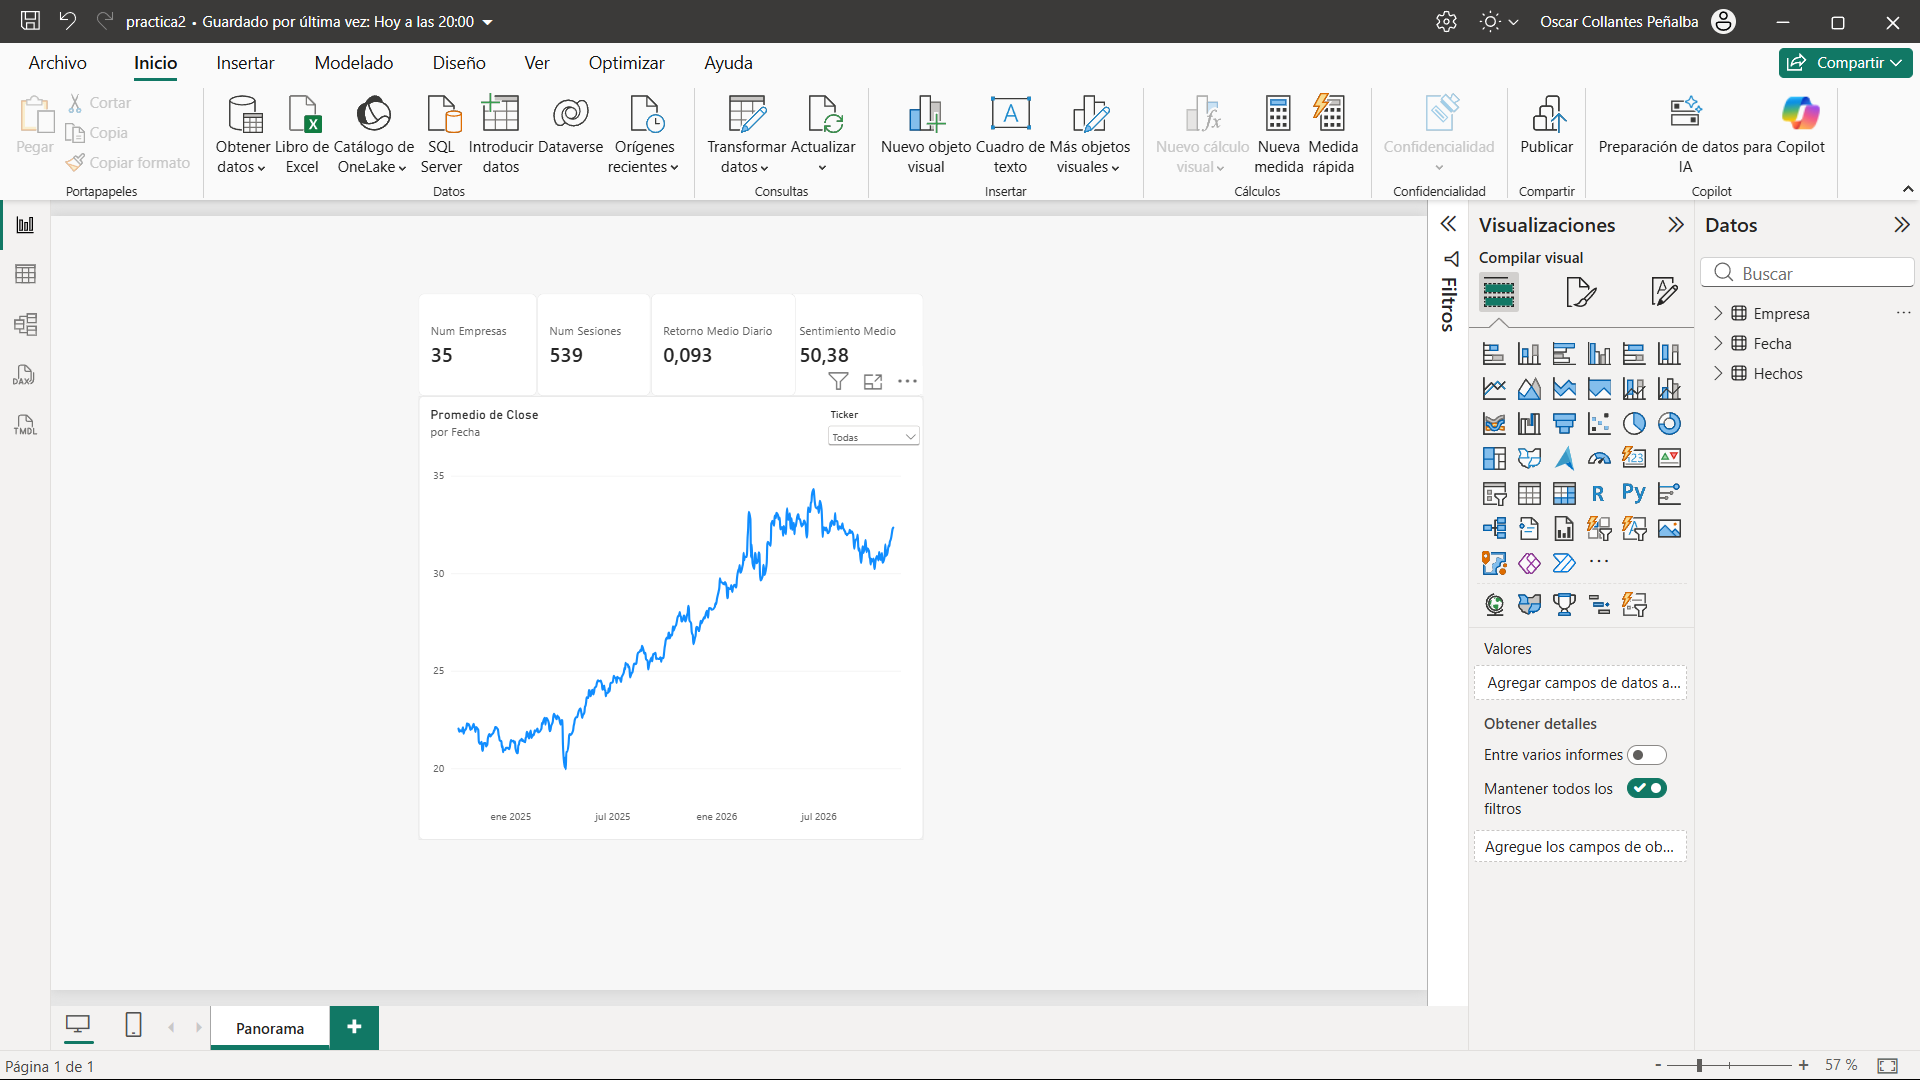

Layout of this report page (visuals, bound fields, positions):
{"tool":"powerbi","page":{"name":"Panorama","canvas":[1920,1080],"ordinal":0},"visuals":[{"type":"cardVisual","fields":{"Data":["Hechos.Num Empresas"]},"box":[-0.7,-0.7,165.7,143],"z":0},{"type":"cardVisual","fields":{"Data":["Hechos.Sentimiento Medio"]},"box":[513.8,-0.7,190.1,143],"z":1000},{"type":"cardVisual","fields":{"Data":["Hechos.Retorno Medio Diario"]},"box":[323.7,-0.7,202.3,143],"z":2000},{"type":"cardVisual","fields":{"Data":["Hechos.Num Sesiones"]},"box":[165,-0.7,158.7,143],"z":3000},{"type":"lineChart","fields":{"Category":["Fecha.Fecha"],"Y":["Avg(Hechos.Close)"]},"box":[-0.7,142.3,704.7,619.2],"z":4000},{"type":"slicer","fields":{"Values":["Empresa.Ticker"]},"box":[566.2,159.8,137.8,59.3],"z":5000}]}

Visuals, with their boxes on the page's 1920x1080 design canvas (x1, y1, x2, y2). These are canvas units, not pixel positions in the 1920x1080 screenshot, which may show the page scaled, cropped or inside an application window:
cardVisual - Hechos.Num Empresas: box(-1, -1, 165, 142)
cardVisual - Hechos.Sentimiento Medio: box(514, -1, 704, 142)
cardVisual - Hechos.Retorno Medio Diario: box(324, -1, 526, 142)
cardVisual - Hechos.Num Sesiones: box(165, -1, 324, 142)
lineChart - Fecha.Fecha x Avg(Hechos.Close): box(-1, 142, 704, 762)
slicer - Empresa.Ticker: box(566, 160, 704, 219)
